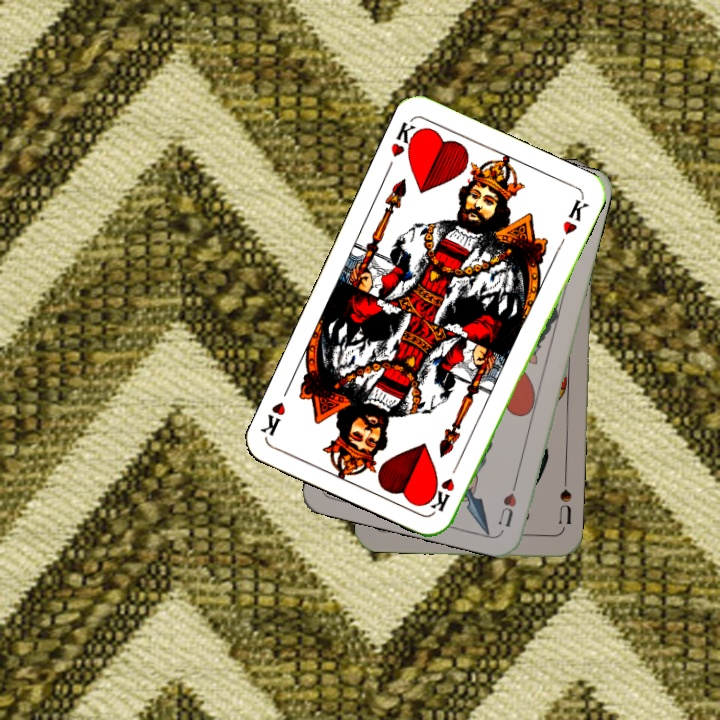HK: (426, 458, 462, 515), (386, 117, 425, 161)
HU: (494, 474, 521, 530)
SU: (555, 474, 574, 527)
